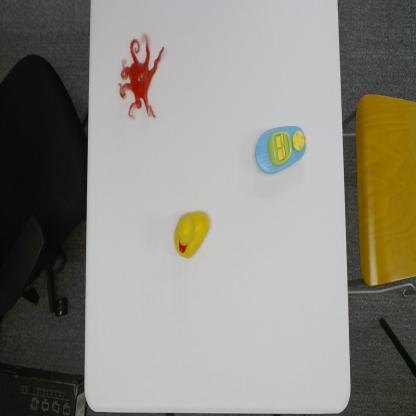Boat: (254, 124, 308, 176)
Duck: (173, 209, 211, 261)
Octopus: (117, 31, 165, 121)
